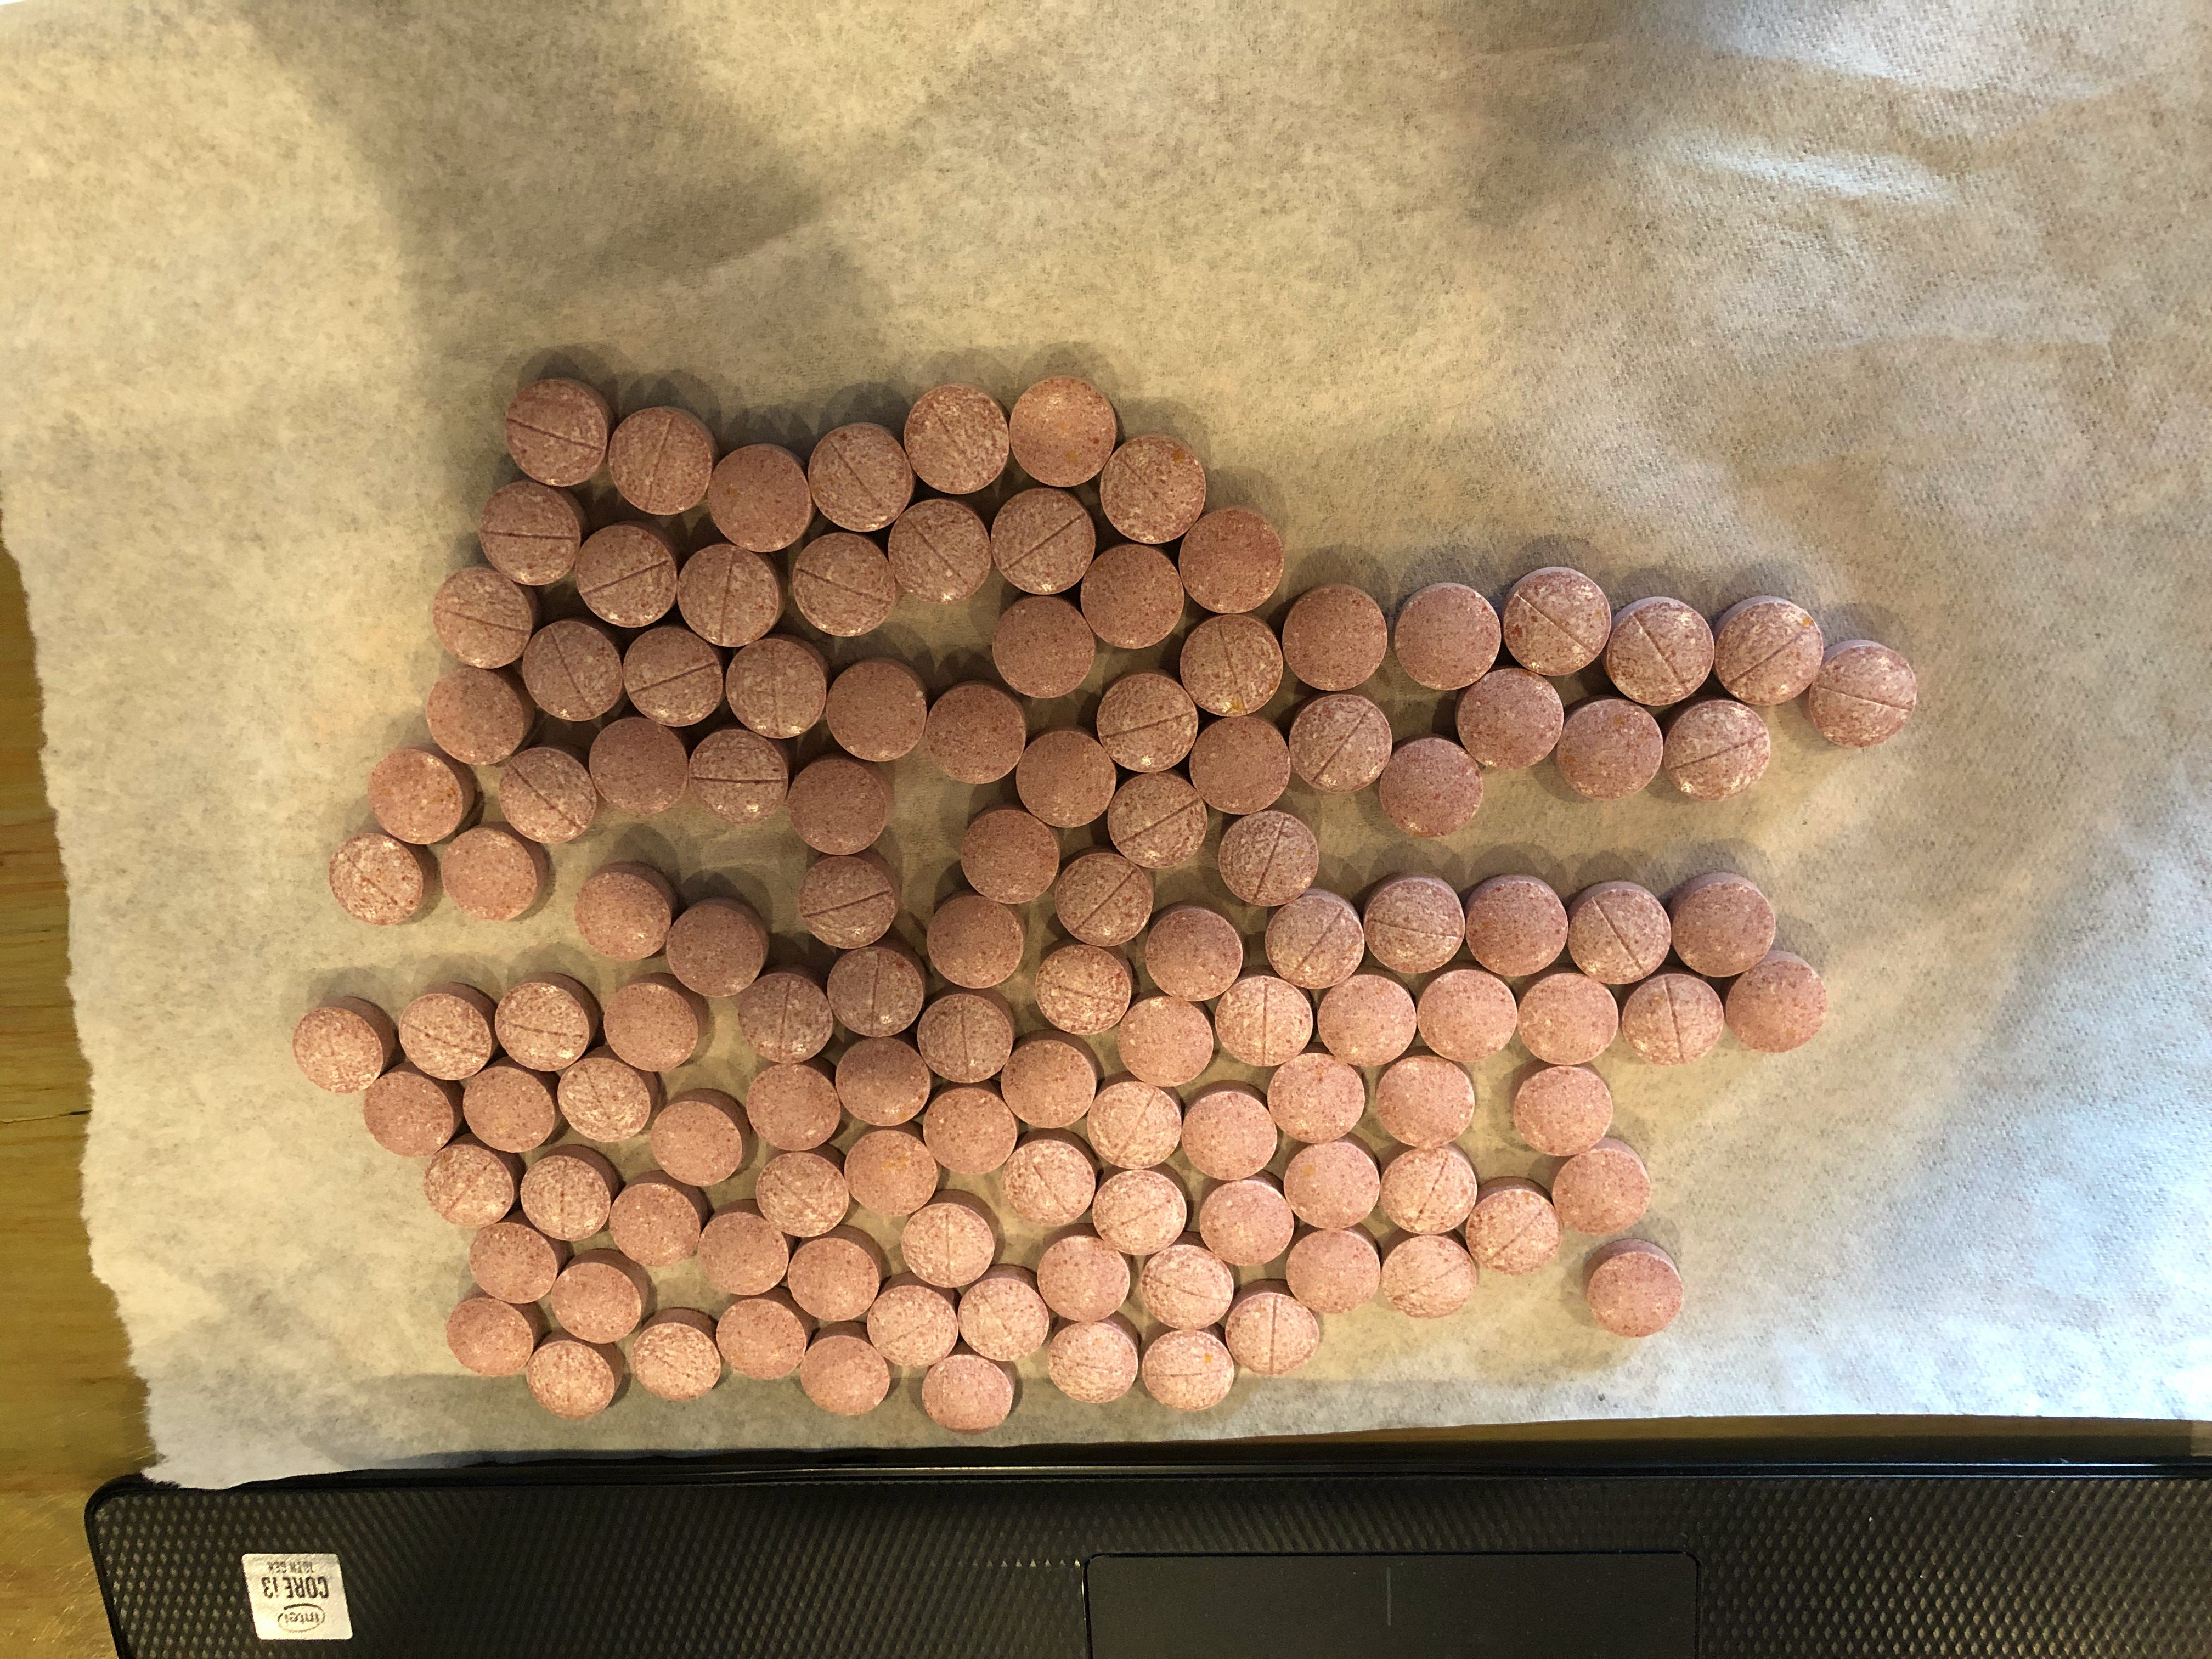tablet: (500, 369, 618, 491), (1801, 636, 1923, 755), (1498, 563, 1616, 681), (704, 441, 820, 561), (787, 525, 902, 645), (718, 633, 836, 748), (900, 380, 1012, 502), (428, 559, 543, 676), (603, 404, 718, 521), (1601, 594, 1717, 709), (988, 481, 1101, 599), (1097, 429, 1211, 547), (667, 538, 789, 648), (1174, 502, 1289, 617), (1372, 734, 1487, 849), (1714, 596, 1827, 713), (1075, 538, 1186, 657), (1388, 582, 1507, 694), (1453, 662, 1571, 774), (1667, 870, 1780, 985), (822, 648, 932, 767), (1174, 606, 1289, 718), (1183, 709, 1298, 821), (364, 741, 481, 850), (1010, 371, 1120, 488), (1548, 695, 1665, 805), (1658, 697, 1777, 805), (475, 477, 587, 591), (570, 519, 681, 633), (1355, 868, 1467, 979), (806, 422, 916, 535), (885, 493, 995, 606), (421, 662, 540, 767), (517, 613, 627, 725), (618, 622, 730, 732), (989, 594, 1101, 704), (1278, 580, 1390, 690), (284, 993, 401, 1098), (493, 741, 603, 850), (921, 681, 1031, 791), (1090, 666, 1200, 775), (439, 823, 554, 927), (1012, 727, 1122, 835), (1139, 897, 1247, 1007), (1212, 805, 1322, 913), (1284, 690, 1395, 796), (918, 890, 1031, 995), (782, 756, 897, 859), (1561, 884, 1676, 986), (1723, 951, 1831, 1060), (571, 859, 681, 965), (683, 725, 792, 831), (1103, 769, 1212, 875), (664, 894, 772, 1000), (1463, 873, 1569, 981), (491, 972, 601, 1077), (792, 850, 902, 955), (601, 974, 709, 1079), (326, 828, 437, 929), (361, 1058, 469, 1161), (1615, 972, 1726, 1072), (587, 714, 691, 819), (735, 967, 840, 1072), (914, 986, 1019, 1091), (1263, 889, 1367, 993), (1221, 1279, 1327, 1382), (1583, 1239, 1689, 1342), (998, 1032, 1103, 1134), (395, 983, 502, 1084), (1050, 850, 1157, 951), (1508, 1061, 1616, 1161), (1371, 1054, 1480, 1152), (1031, 1229, 1136, 1330), (958, 805, 1062, 906), (1282, 1138, 1388, 1237), (1517, 974, 1625, 1072), (1111, 993, 1214, 1094), (1548, 1138, 1651, 1239), (1083, 1075, 1188, 1175), (738, 1058, 845, 1155), (1313, 972, 1420, 1070), (550, 1053, 660, 1147), (606, 1169, 707, 1270), (1177, 1080, 1278, 1182), (517, 1145, 620, 1244), (996, 1136, 1099, 1236), (1212, 971, 1315, 1070), (831, 1033, 935, 1131), (1278, 1227, 1385, 1323), (822, 945, 930, 1039), (921, 1082, 1022, 1182), (1414, 967, 1517, 1065), (1264, 1051, 1369, 1147), (420, 1136, 526, 1230), (1134, 1241, 1240, 1335), (786, 1230, 887, 1328), (841, 1126, 944, 1222), (1465, 1180, 1561, 1283), (627, 1307, 726, 1405), (1195, 1175, 1296, 1270), (1376, 1143, 1477, 1239), (549, 1249, 651, 1344), (1379, 1230, 1482, 1324), (697, 1202, 792, 1302), (651, 1089, 747, 1188), (958, 1267, 1054, 1366), (1035, 943, 1136, 1037), (751, 1147, 853, 1239), (460, 1065, 561, 1157), (1089, 1168, 1191, 1258), (712, 1290, 812, 1382), (897, 1201, 996, 1293), (1137, 1326, 1237, 1419), (914, 1351, 1017, 1439), (523, 1331, 627, 1419), (864, 1276, 960, 1370), (442, 1291, 547, 1377), (796, 1328, 892, 1420), (1042, 1319, 1143, 1406), (465, 1218, 564, 1305)
